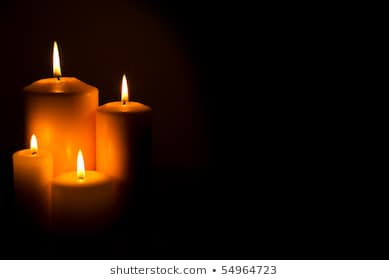Fire: (48, 41, 66, 82), (119, 72, 132, 108), (75, 148, 89, 176), (28, 135, 44, 157)
